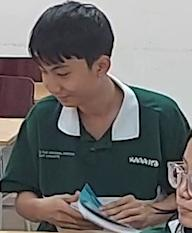Turning_Around: (4, 0, 175, 227)
